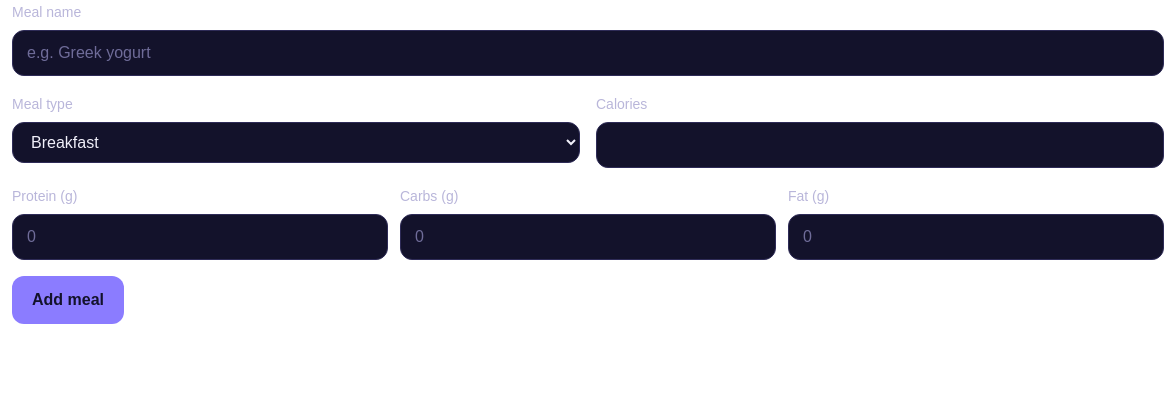
Test: MealForm › shows a validation error and does not submit
What coordinates should you click on to do the following:
click the button "Add meal"
I would click on:
 (68, 300)
Its box is [12,276,124,324].
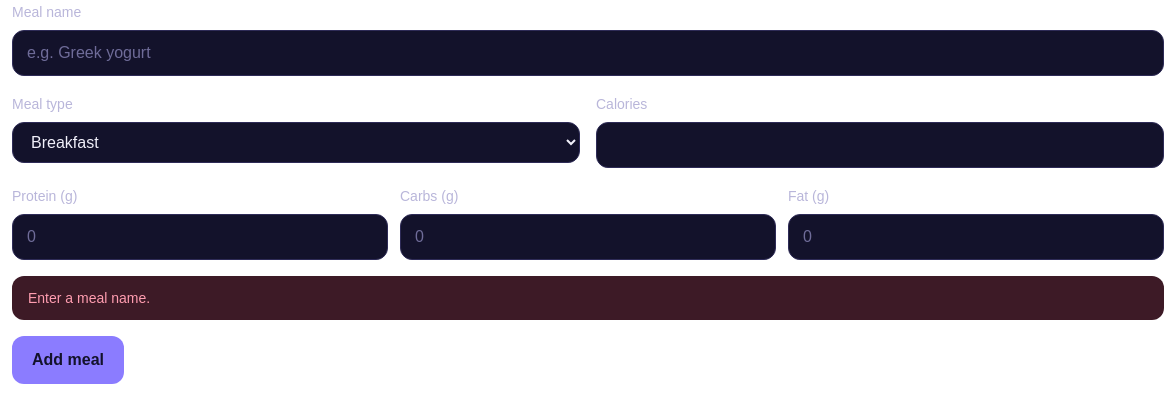
expect the message reads "Enter a meal name.": met, box [28,290,150,306]
